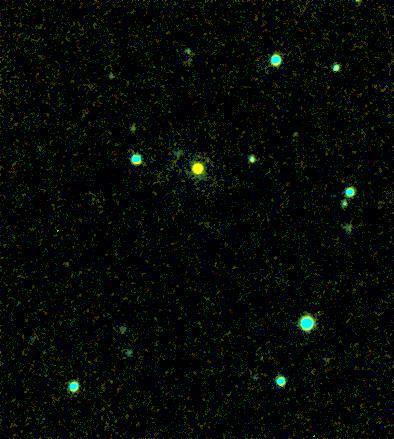star: (181, 153, 211, 183)
